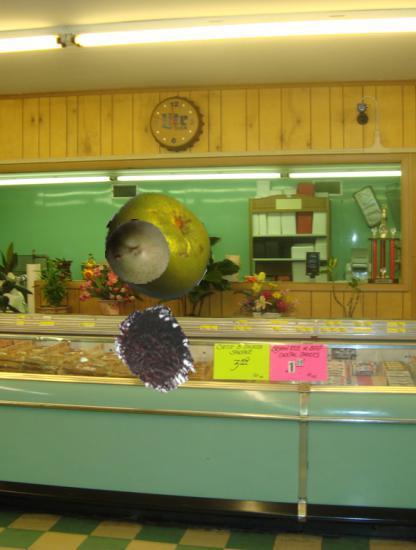Pear: (105, 219, 170, 284)
Pomelo: (104, 192, 213, 301)
Rambutan: (109, 305, 199, 395)
